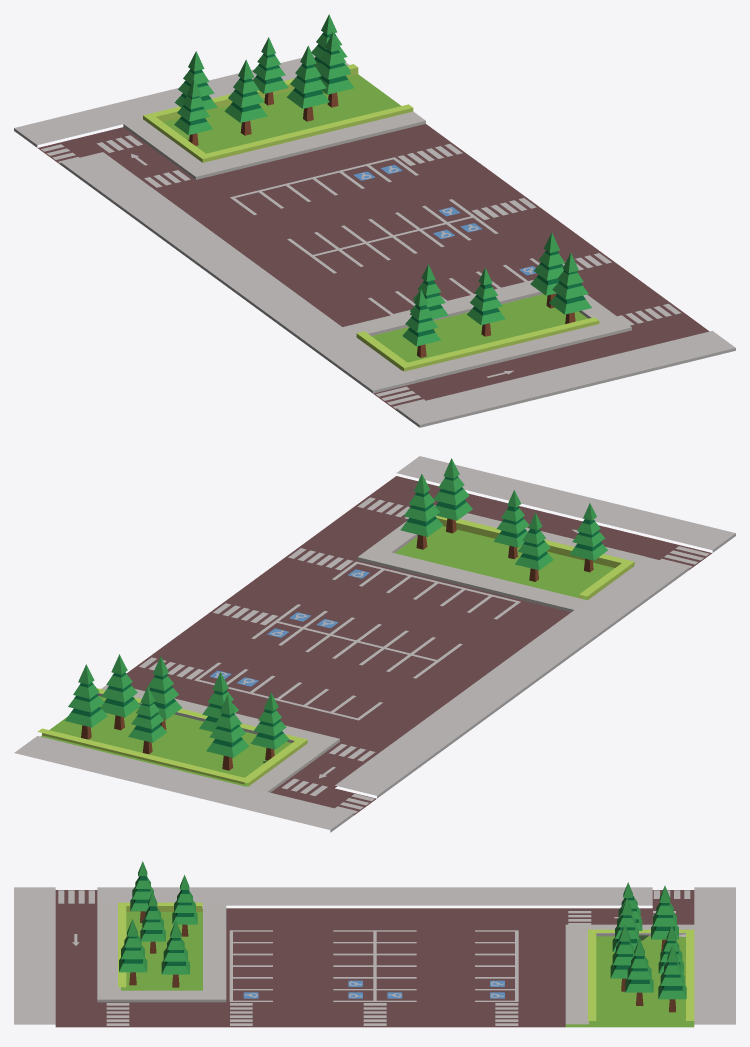
Rendered from parking_lvl_4.FBX.
3 views of the same model, one above another, from view 1: azimuth 30°, elevation 25°; view 2: azimuth 150°, elevation 25°; view 3: azimuth 270°, elevation 25° (orthographic). The views are drawn at different scales.
Visible parts, largest first — view 1: parking_lvl_4; view 2: parking_lvl_4; view 3: parking_lvl_4.
Part boxes in pixels (x1=…): parking_lvl_4: x1=14, y1=14, x2=735, y2=427; parking_lvl_4: x1=14, y1=456, x2=735, y2=832; parking_lvl_4: x1=14, y1=861, x2=735, y2=1027.
Size of the model in its own units: 5852 by 1436 by 13000.
